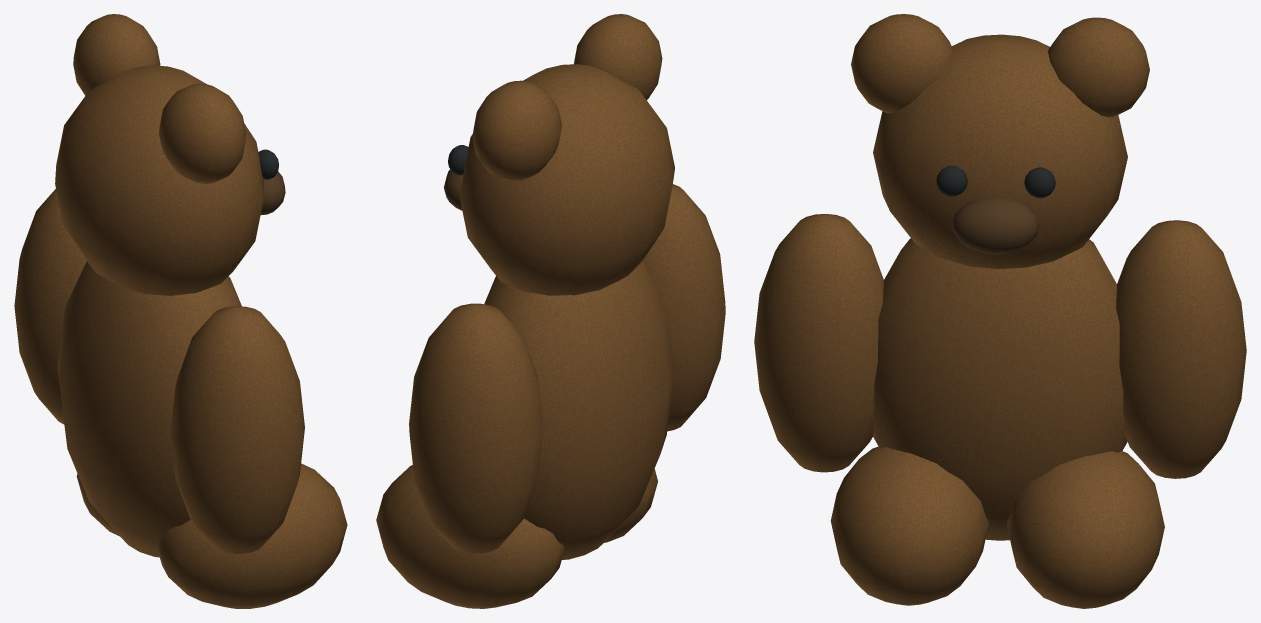
The model's file is SM_TeddyPrize_d86017e668.fbx.
The picture shows the model from 3 angles, left to right: view 1: azimuth 30°, elevation 25°; view 2: azimuth 150°, elevation 25°; view 3: azimuth 270°, elevation 25°; orthographic projection. The views are drawn at different scales.
Visible parts, largest first — view 1: SM_TeddyPrize_d86017e668; view 2: SM_TeddyPrize_d86017e668; view 3: SM_TeddyPrize_d86017e668.
Part boxes in pixels (left/top/right/bottom): SM_TeddyPrize_d86017e668: left=14, top=14, right=347, bottom=608; SM_TeddyPrize_d86017e668: left=376, top=14, right=725, bottom=608; SM_TeddyPrize_d86017e668: left=754, top=14, right=1246, bottom=608.
Size of what is drawn, in the model's own units: 33.75 by 60.14 by 74.17.
3 materials, 1 textured.
